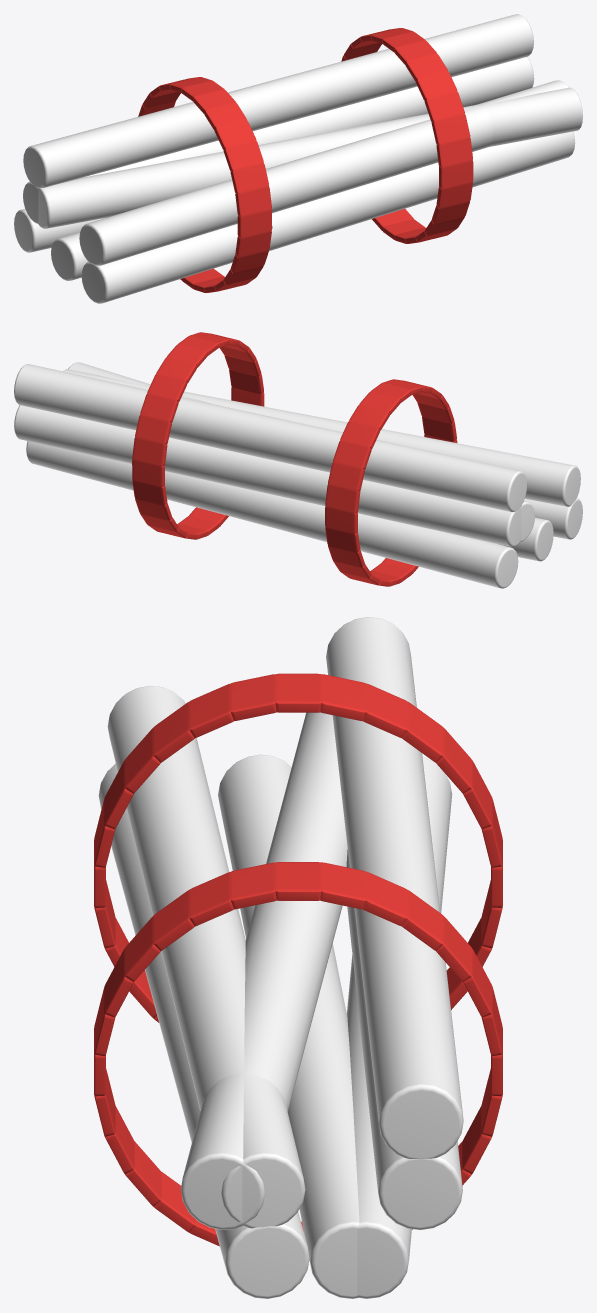
The model's file is chew_sticks.glb.
3 renders of one model, top to bottom at view 1: azimuth 30°, elevation 25°; view 2: azimuth 150°, elevation 25°; view 3: azimuth 270°, elevation 25°, orthographic. The views are drawn at different scales.
Visible parts, largest first — view 1: chew_sticks.001; view 2: chew_sticks.001; view 3: chew_sticks.001.
Part boxes in pixels (box(x1,y1,x2,y2)): chew_sticks.001: box(14, 14, 582, 303); chew_sticks.001: box(14, 332, 582, 588); chew_sticks.001: box(94, 617, 502, 1298).
Size of the model in its own units: 11.08 by 4.04 by 4.04.
